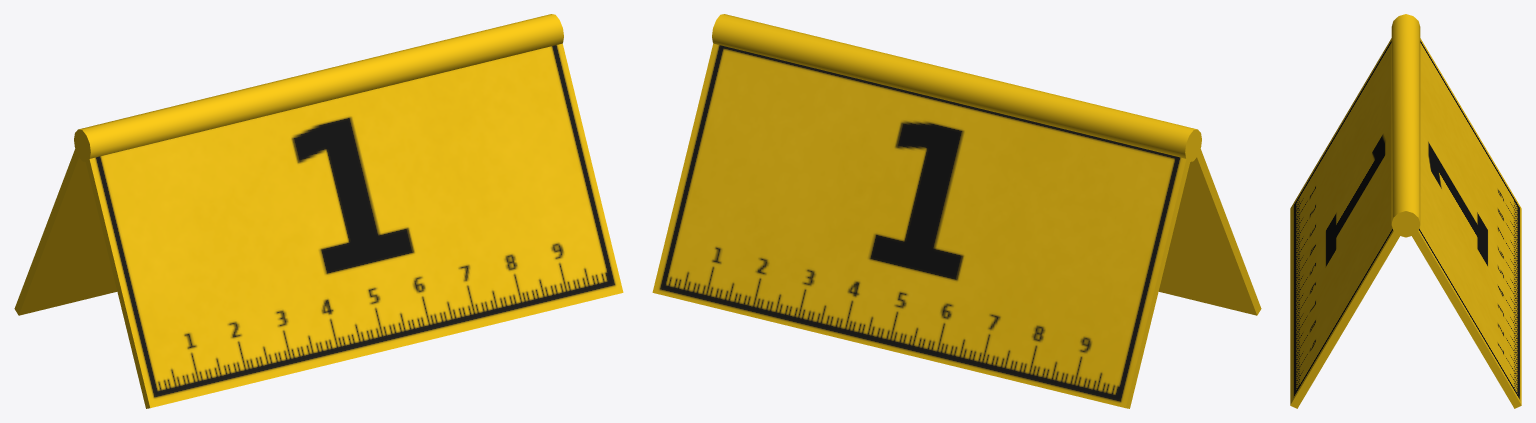
Rendered from EvidenceMarkerTent.obj.
The picture shows the model from 3 angles, left to right: view 1: azimuth 30°, elevation 25°; view 2: azimuth 150°, elevation 25°; view 3: azimuth 270°, elevation 25°; orthographic projection. The views are drawn at different scales.
Visible parts, largest first — view 1: MarkerPlastic; view 2: MarkerPlastic; view 3: MarkerPlastic.
Boxes of the visible parts, bbox=[...] form: MarkerPlastic: bbox=[14, 14, 623, 408]; MarkerPlastic: bbox=[652, 14, 1261, 408]; MarkerPlastic: bbox=[1290, 14, 1521, 408].
Size of the model in its own units: 0.103 by 0.0483 by 0.0512.
Materials: 1 (1 with a texture image).
